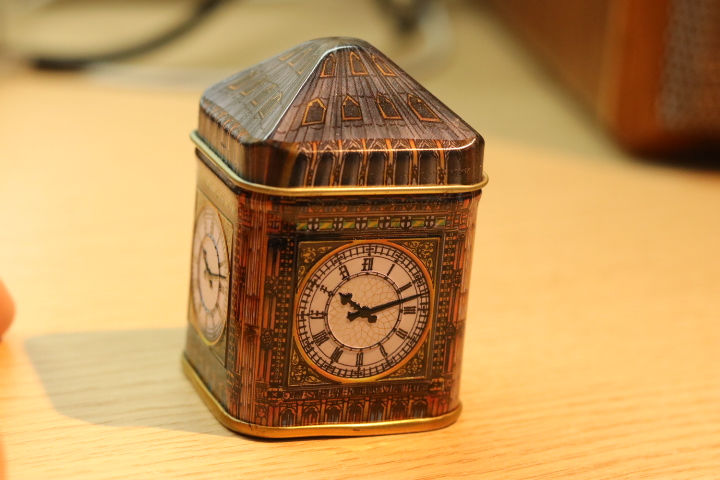Big Ben: (169, 34, 496, 450)
